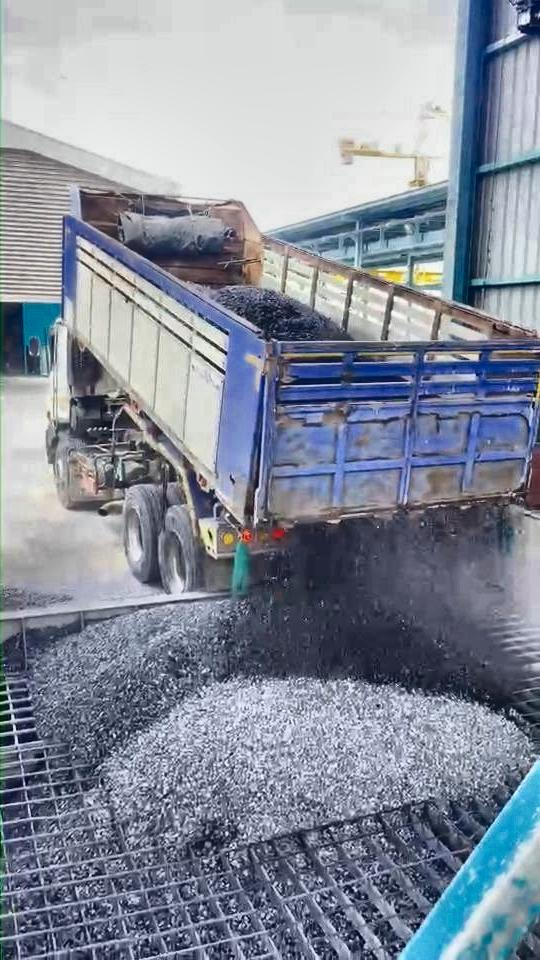gravel: (102, 677, 532, 847), (238, 513, 499, 712), (30, 600, 244, 762), (206, 285, 352, 340), (1, 586, 69, 611)
